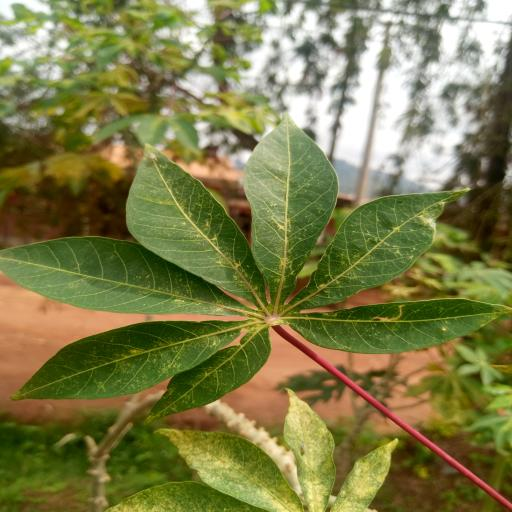Cassava_Mosaic: (0, 114, 507, 430)
